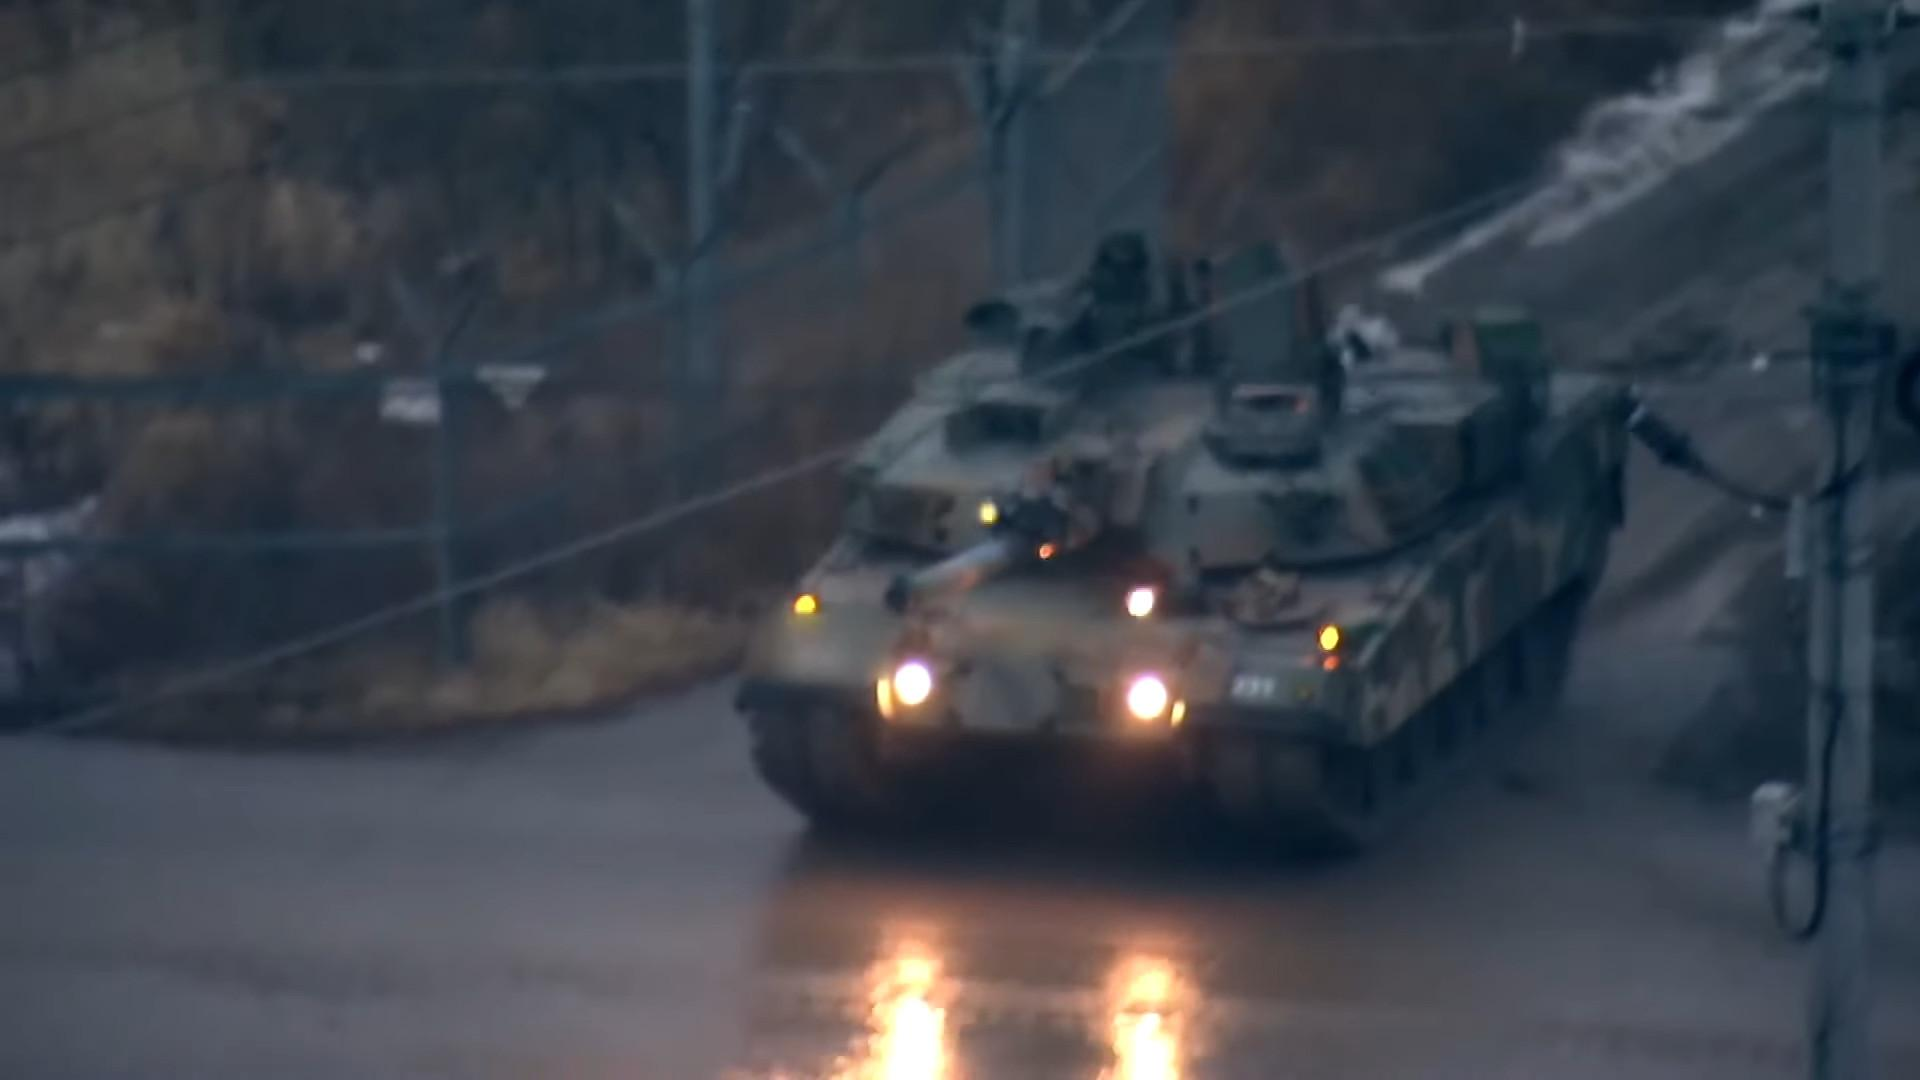tank: (731, 231, 1635, 843)
